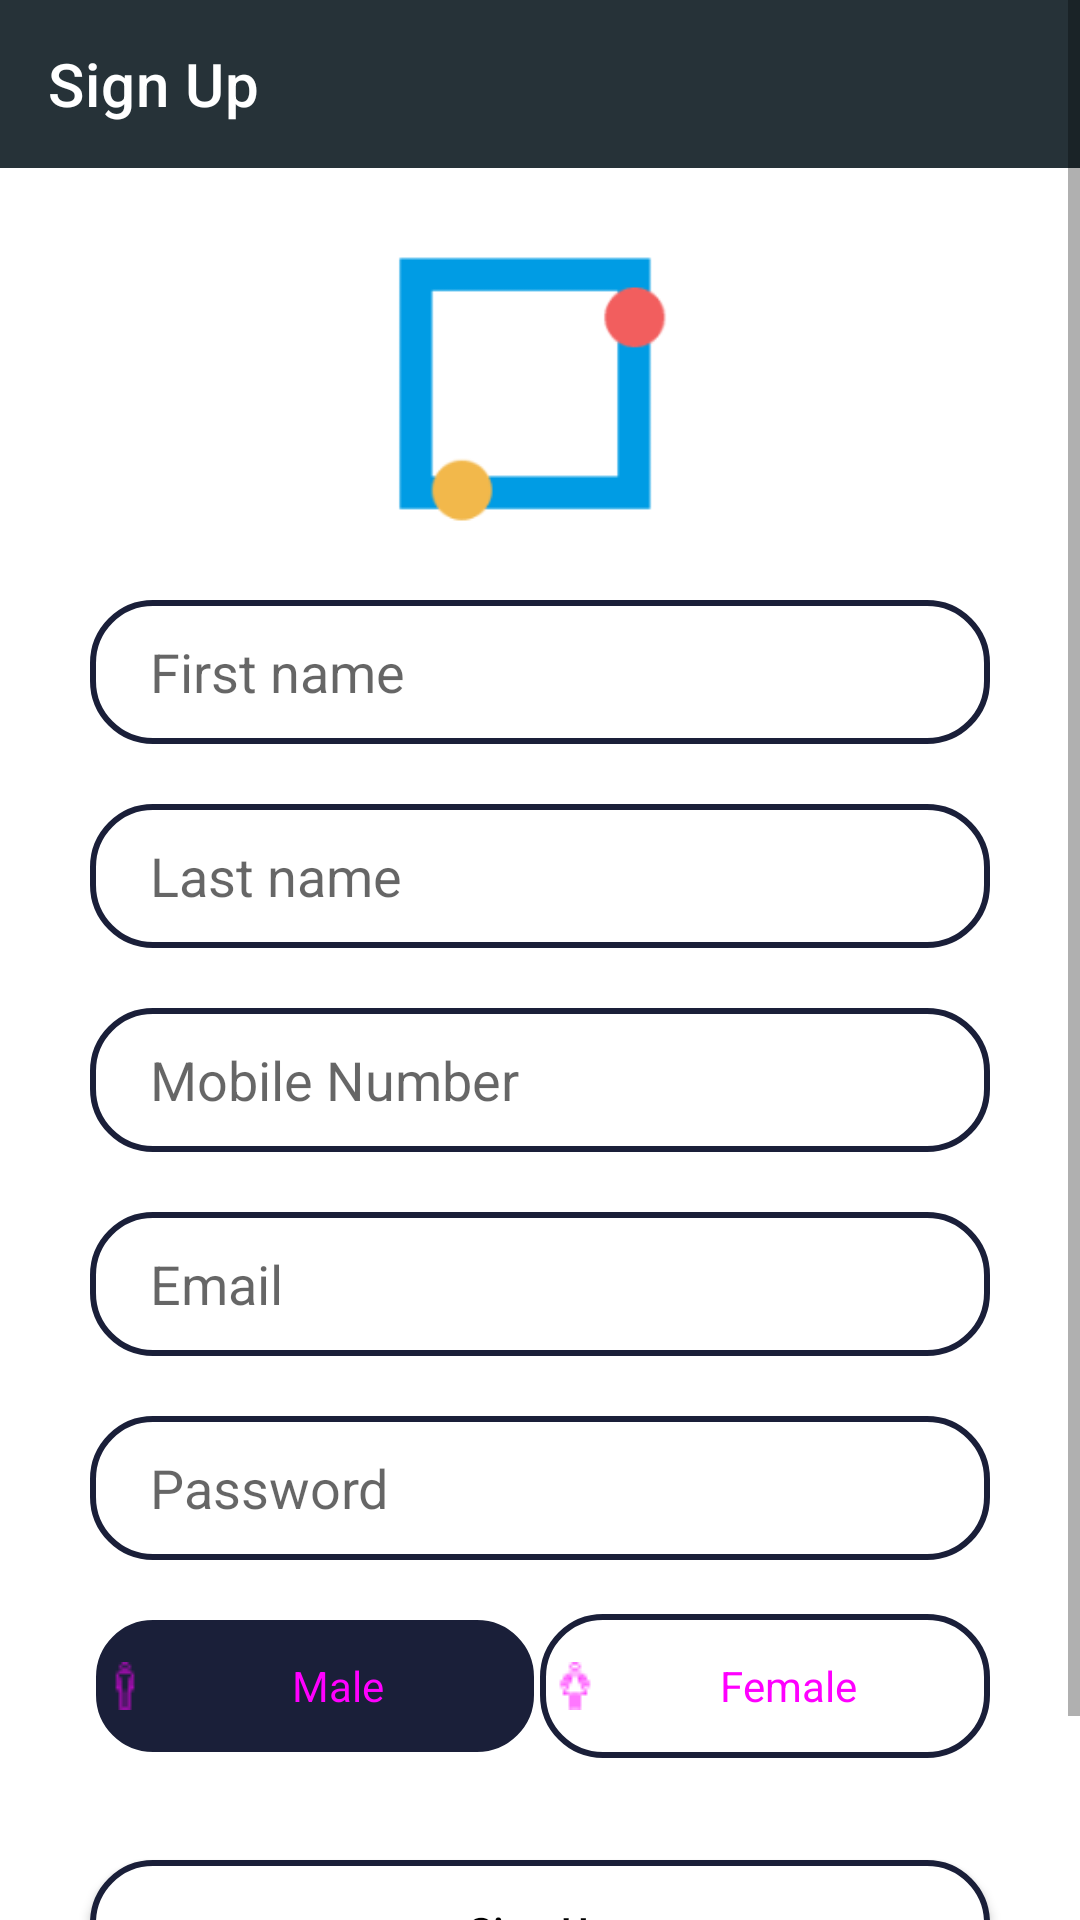

Locate icon controls on the screen. Image size 1080 x 1920, boxes as {"left": x1, "top": y1, "right": x2, "bottom": y2}.
appicons: {"left": 399, "top": 257, "right": 666, "bottom": 521}
